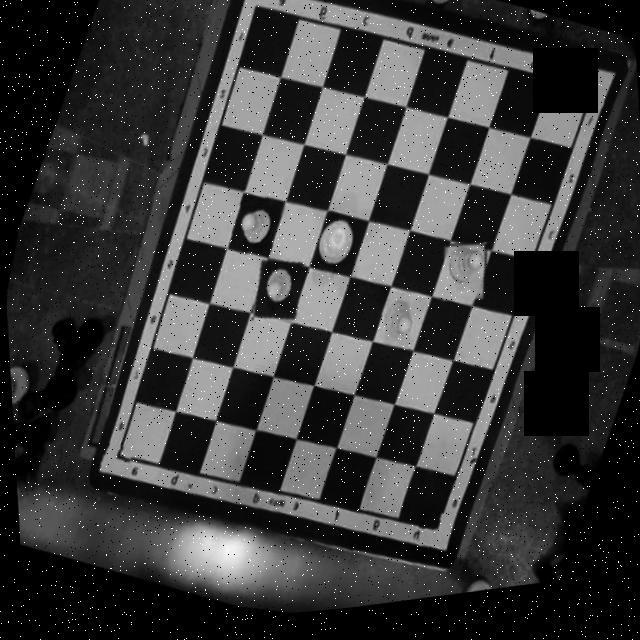chess-table-corners: (410, 513, 451, 558), (568, 84, 606, 126), (234, 0, 279, 31), (96, 438, 132, 474)
